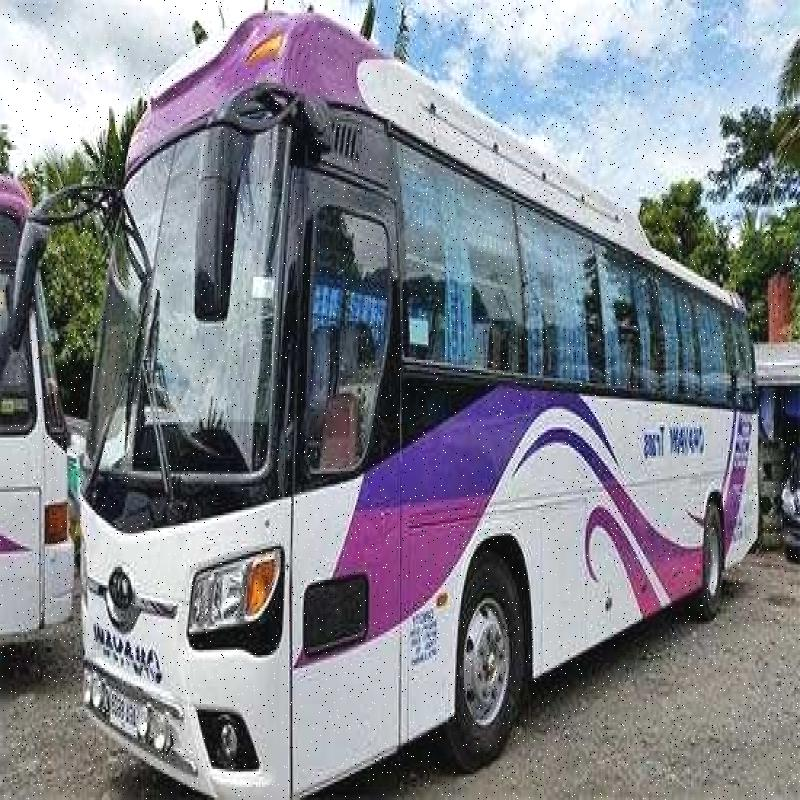bus: (52, 26, 765, 800)
